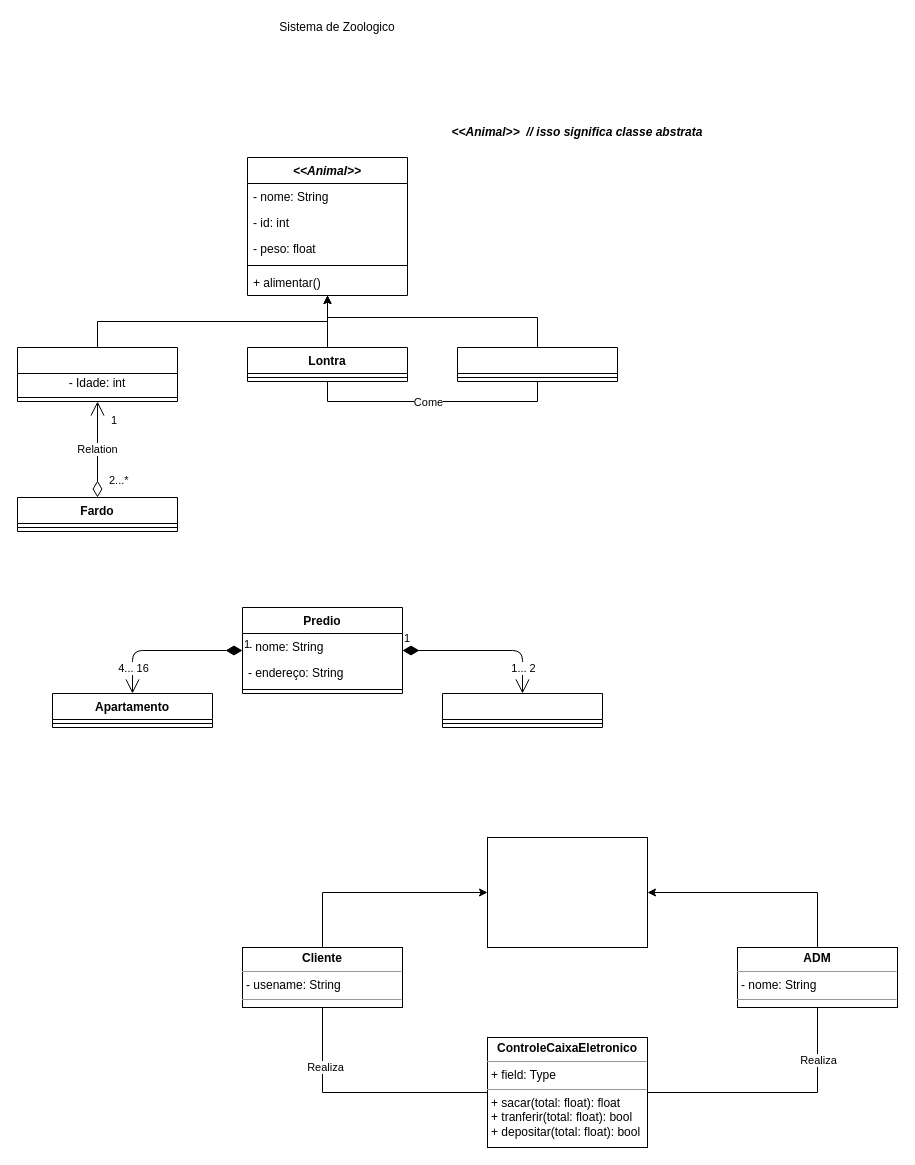
The diagram is 915 pixels wide and 1165 high, and some of its shapes have lost their labels. The box of each missing label's shape, as (x1, y1, x2, y2) in pixels:
Garagem: (442, 692, 602, 728)
Peixe: (456, 346, 618, 382)
Tartaruga: (16, 346, 178, 402)
Usuario - usename: String - senha: string - id: long: (486, 836, 648, 948)
